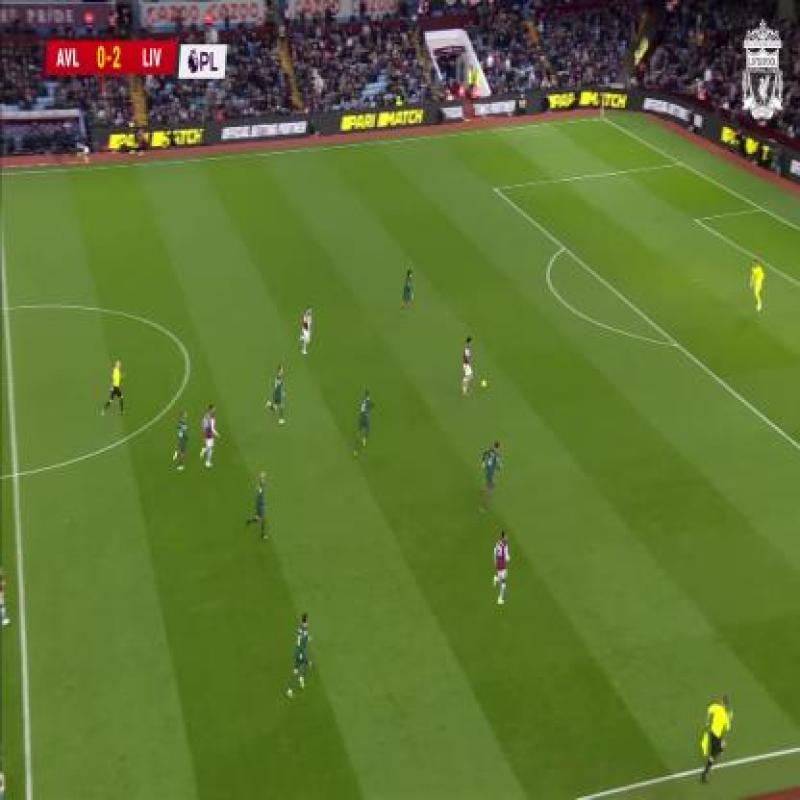1: (596, 114, 608, 124)
10: (558, 240, 569, 256)
11: (669, 334, 683, 354)
14: (0, 296, 12, 319)
15: (6, 454, 27, 494)
2: (676, 158, 686, 172)
3: (758, 204, 766, 213)
7: (692, 214, 704, 226)
9: (490, 182, 502, 198)
c: (168, 345, 206, 376)
